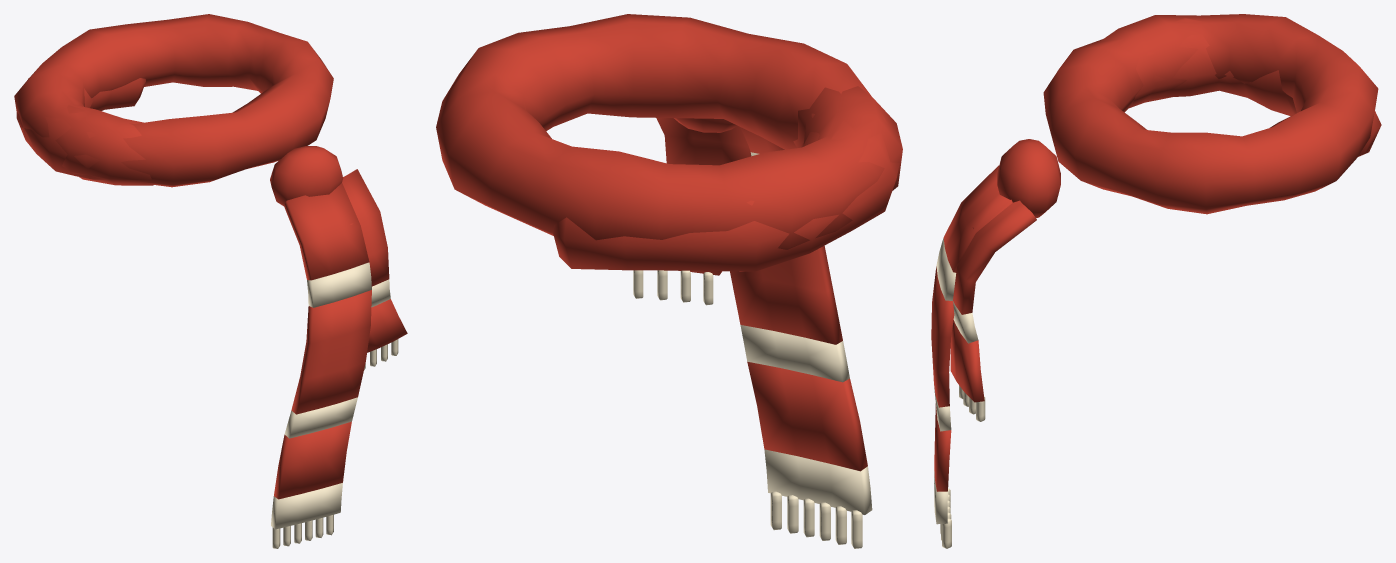
File: outfit_scarf.glb
3 views of the same model, side by side, from view 1: azimuth 30°, elevation 25°; view 2: azimuth 150°, elevation 25°; view 3: azimuth 270°, elevation 25° (orthographic). The views are drawn at different scales.
Parts seen in each view (by area): view 1: OutfitScarf; view 2: OutfitScarf; view 3: OutfitScarf.
Boxes of the visible parts, bbox=[...] form: OutfitScarf: bbox=[14, 14, 407, 548]; OutfitScarf: bbox=[436, 14, 902, 548]; OutfitScarf: bbox=[931, 14, 1381, 548].
Bounding box in the file's own units: 0.4097 × 0.5398 × 0.4862.
